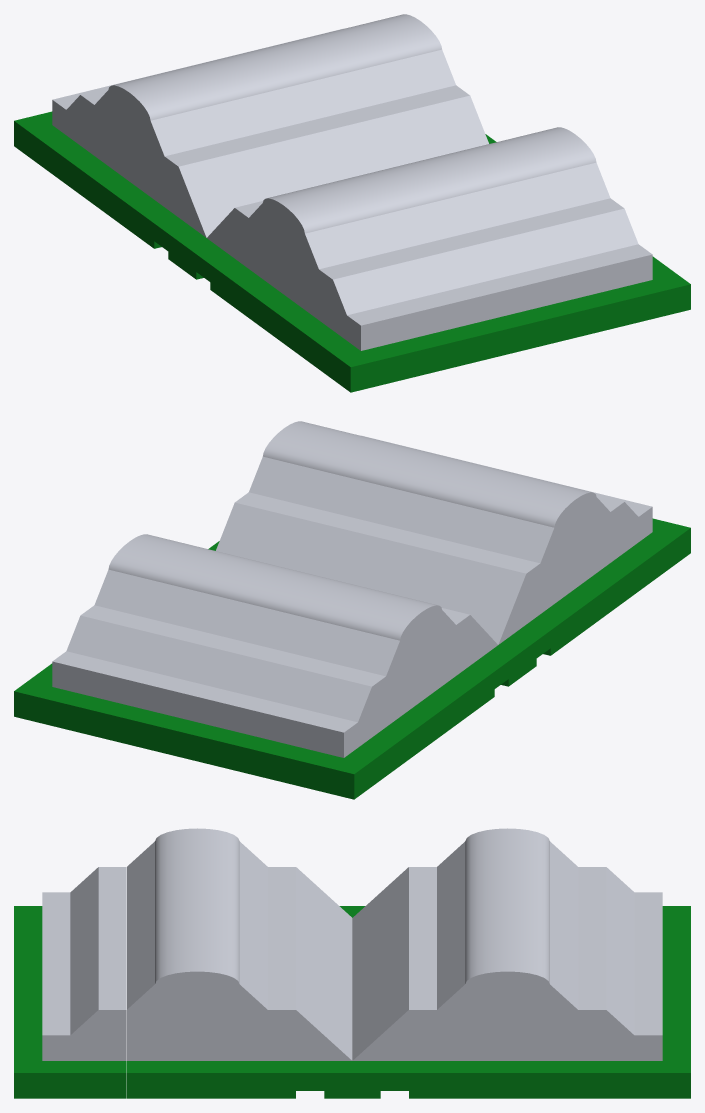
File: OpenBook.fbx
The picture shows the model from 3 angles, top to bottom: view 1: azimuth 30°, elevation 25°; view 2: azimuth 150°, elevation 25°; view 3: azimuth 270°, elevation 25°; orthographic projection.
Parts seen in each view (by area): view 1: wedge (×49), block (×54), cylinder_half (×24); view 2: wedge (×49), block (×54), cylinder_half (×24); view 3: block (×64), cylinder_half (×24), wedge (×10).
Part boxes in pixels (x1,y1,x2,y2): wedge (×49): (150, 49, 638, 315); block (×54): (14, 89, 690, 392); cylinder_half (×24): (108, 14, 596, 233); wedge (×49): (66, 456, 554, 722); block (×54): (14, 496, 690, 799); cylinder_half (×24): (108, 421, 596, 640); block (×64): (14, 984, 690, 1098); cylinder_half (×24): (155, 828, 549, 984); wedge (×10): (70, 973, 634, 1060).
Bounding box in the file's own units: 2.8 × 0.9 × 4.8.
